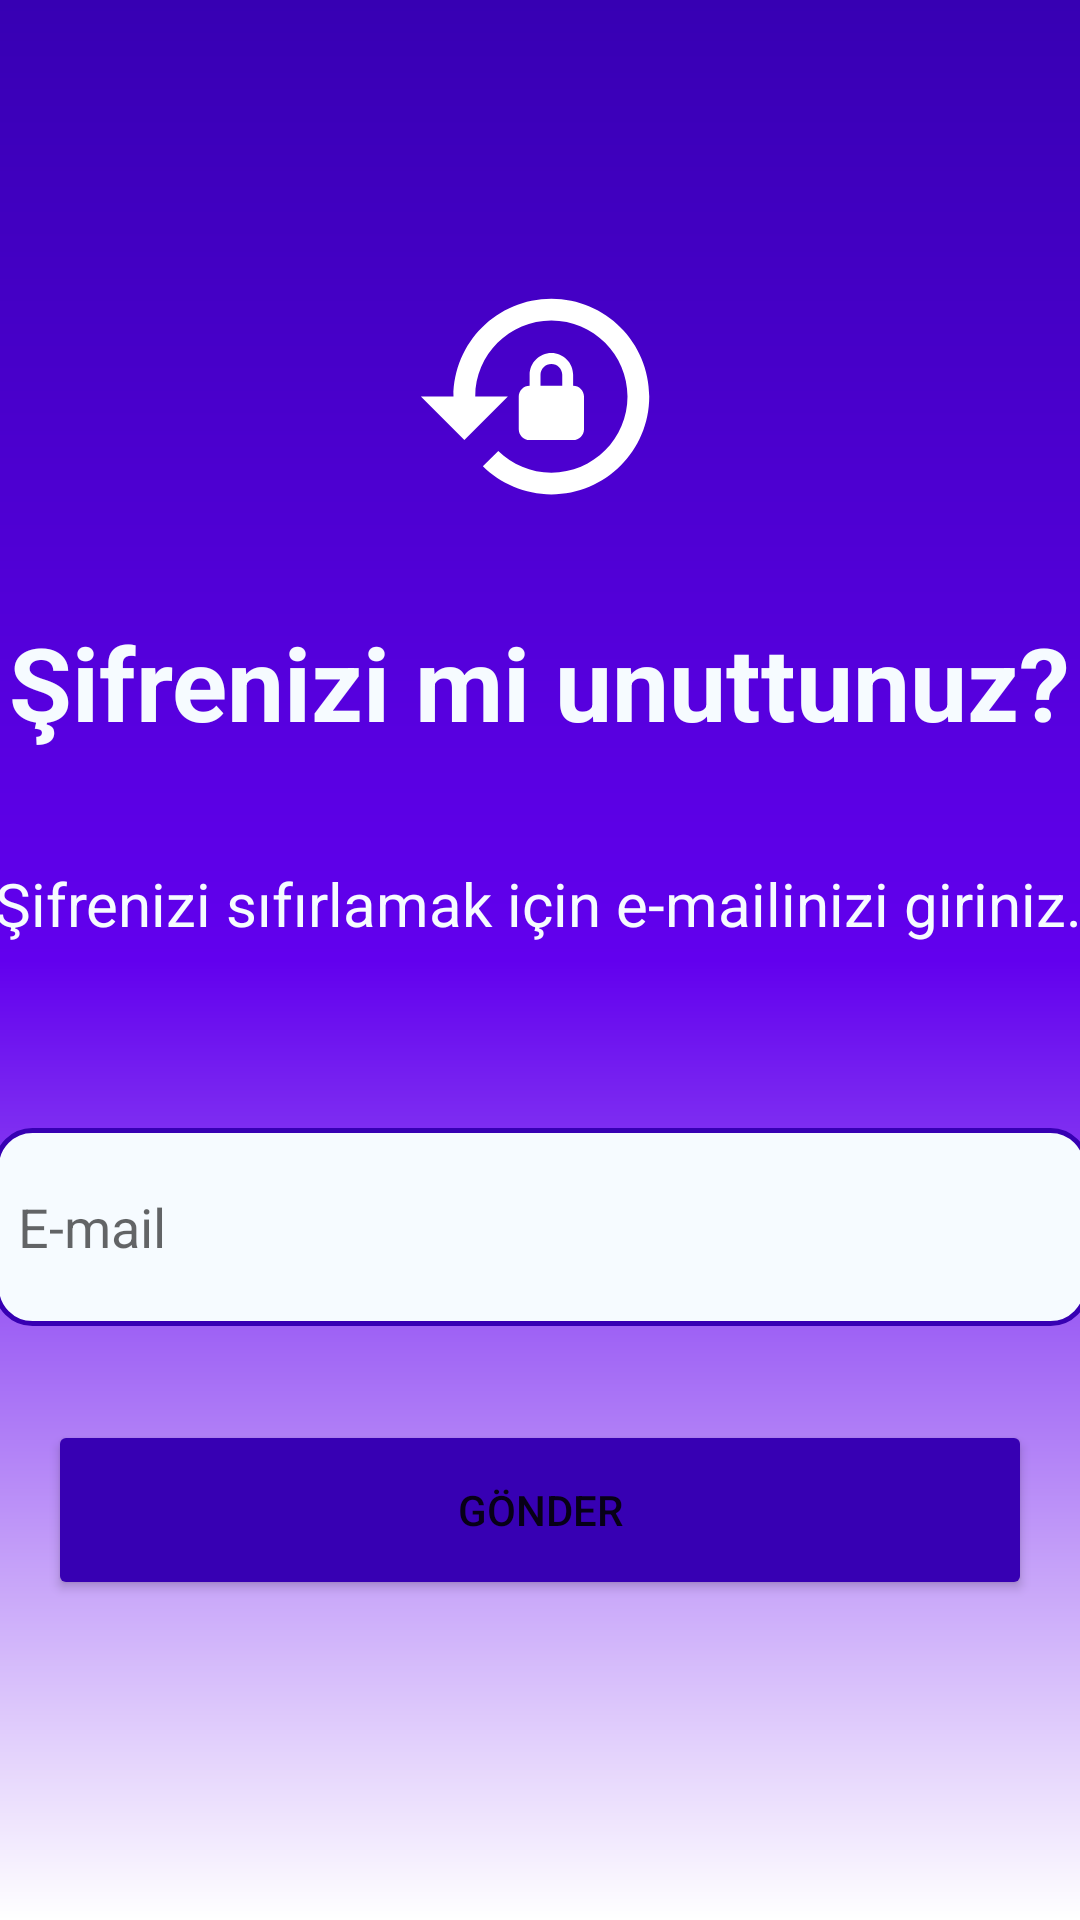

Named icons in this screenshot (1080px×1920px) and their bounding boxes, (x1=x1, y1=y1, x2=x2, y2=y2):
lock reset: (x1=410, y1=298, x2=671, y2=542)
